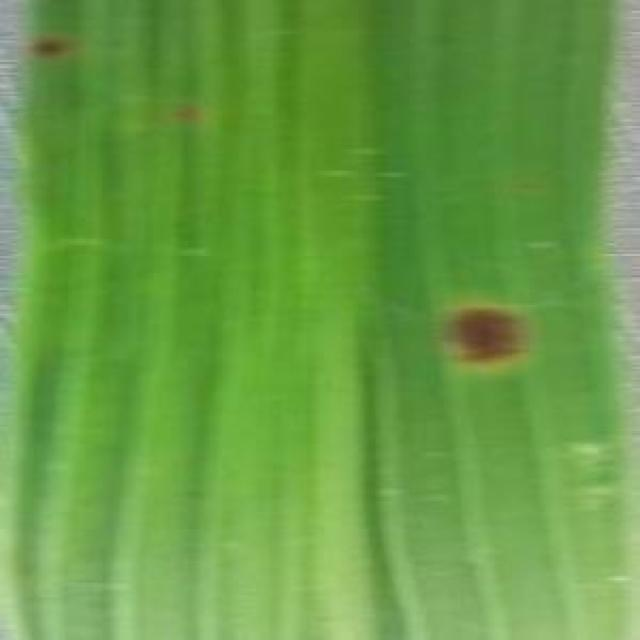Brown_Spot: (438, 292, 526, 378), (26, 32, 83, 62), (155, 96, 204, 129)
